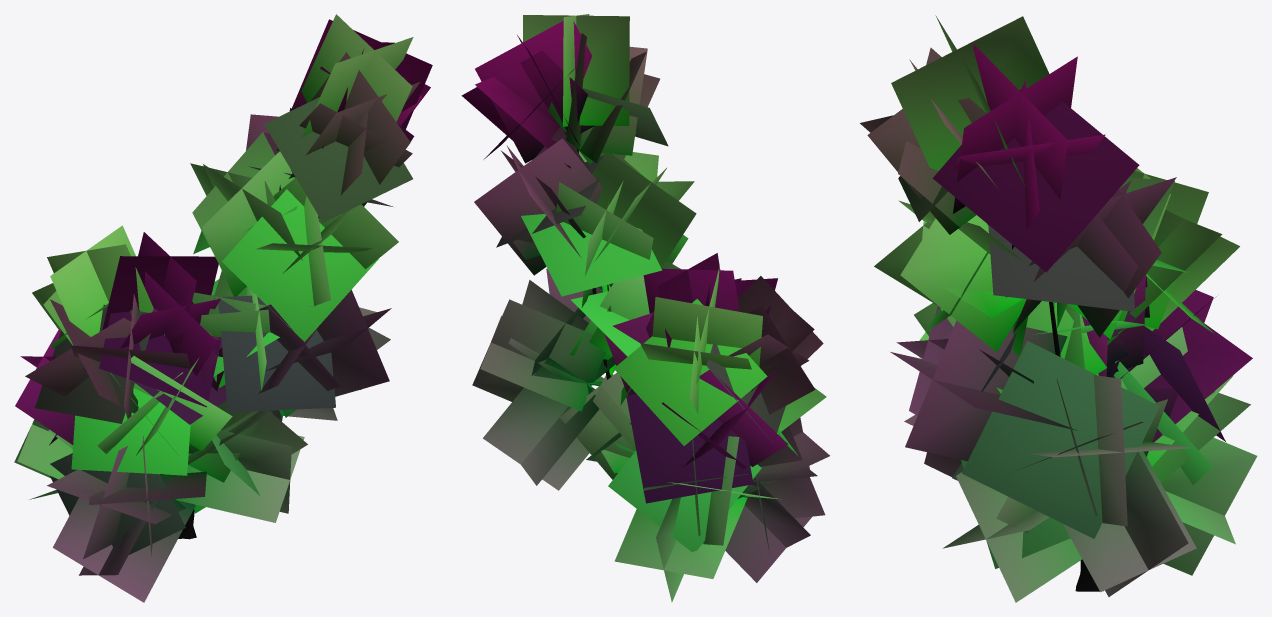
The model's file is M_P1_Tree_4.fbx.
3 renders of one model, left to right at view 1: azimuth 30°, elevation 25°; view 2: azimuth 150°, elevation 25°; view 3: azimuth 270°, elevation 25°, orthographic. The views are drawn at different scales.
Visible parts, largest first — view 1: M_Tree_1_4; view 2: M_Tree_1_4; view 3: M_Tree_1_4.
Boxes of the visible parts, x1,y1,x2,y2 form: M_Tree_1_4: [14, 14, 432, 602]; M_Tree_1_4: [461, 14, 829, 602]; M_Tree_1_4: [860, 15, 1257, 602].
Size of the model in its own units: 1066 by 1390 by 738.
